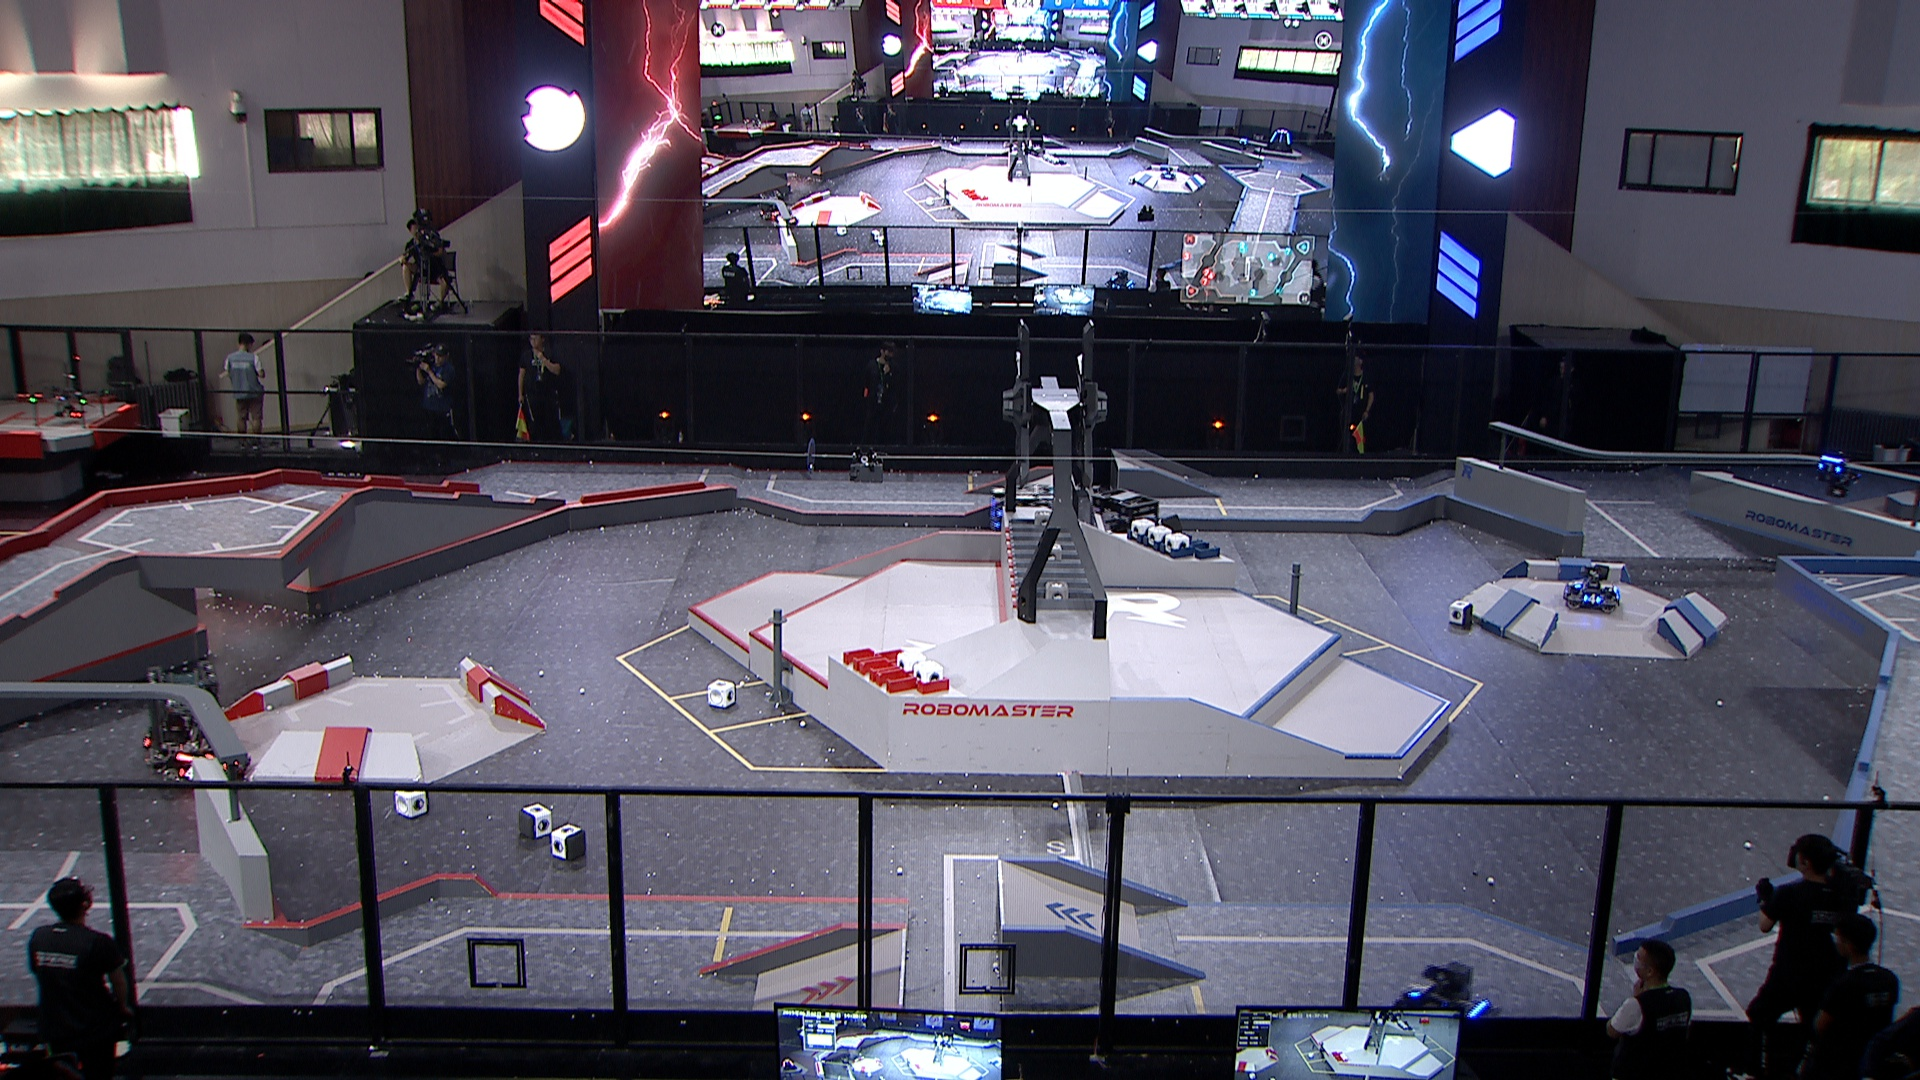armor: (1408, 982, 1432, 1000), (1817, 462, 1842, 476), (177, 766, 196, 782), (1581, 593, 1604, 605), (1571, 578, 1586, 591)
car: (1382, 963, 1503, 1050), (140, 661, 223, 765), (1087, 489, 1166, 570), (986, 484, 1069, 560), (158, 727, 252, 790), (1561, 564, 1622, 616)
ignore: (760, 190, 789, 219), (1263, 128, 1295, 153), (1106, 272, 1138, 291), (1159, 164, 1178, 181), (1237, 138, 1250, 152)
watcher: (1815, 454, 1863, 498)
